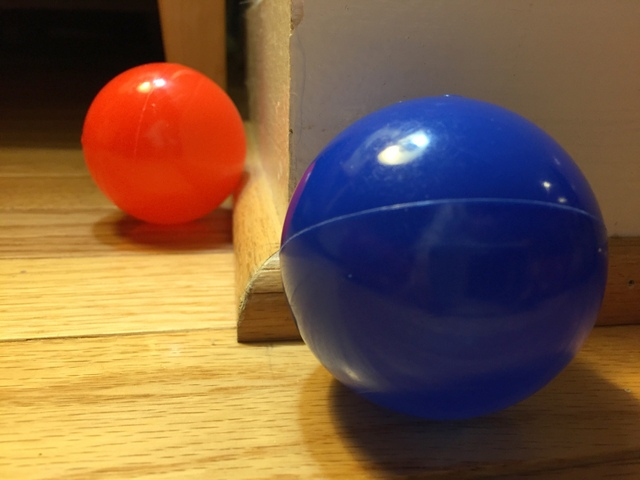Ball: (279, 95, 611, 417)
